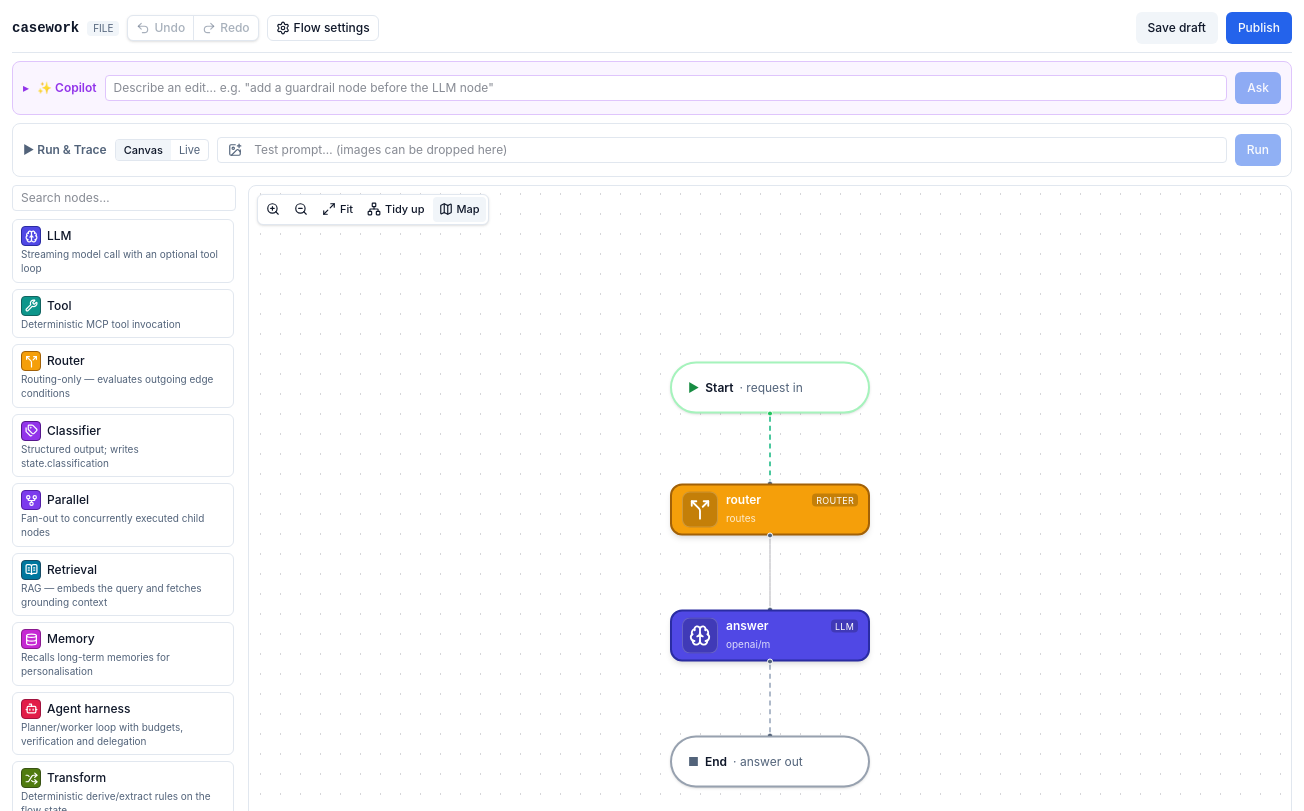
Test: StudioBuilder › rejects a rename to an existing id
Step 1. Click the text "answer" → (747, 626), box [726,618,769,634]
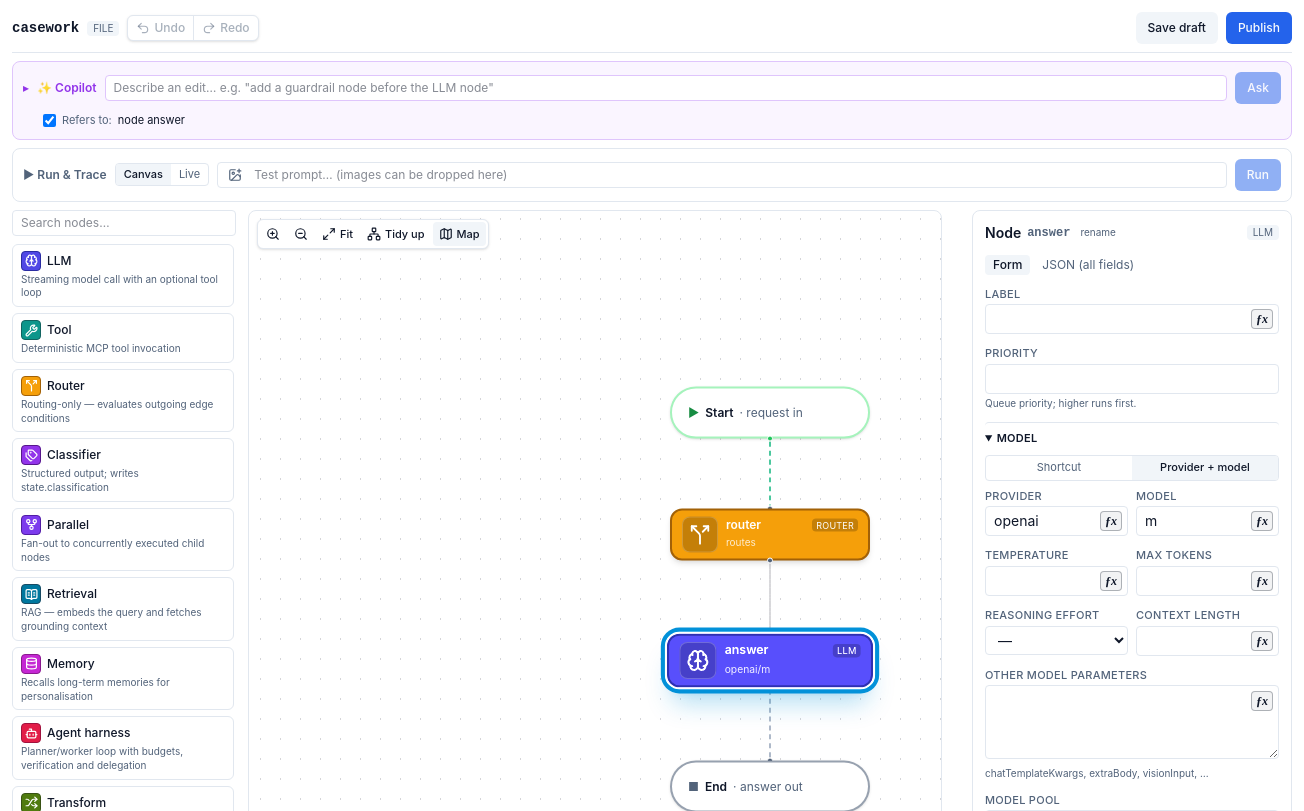
Step 2. Click the button "rename" → (1098, 233), box [1076,225,1120,240]
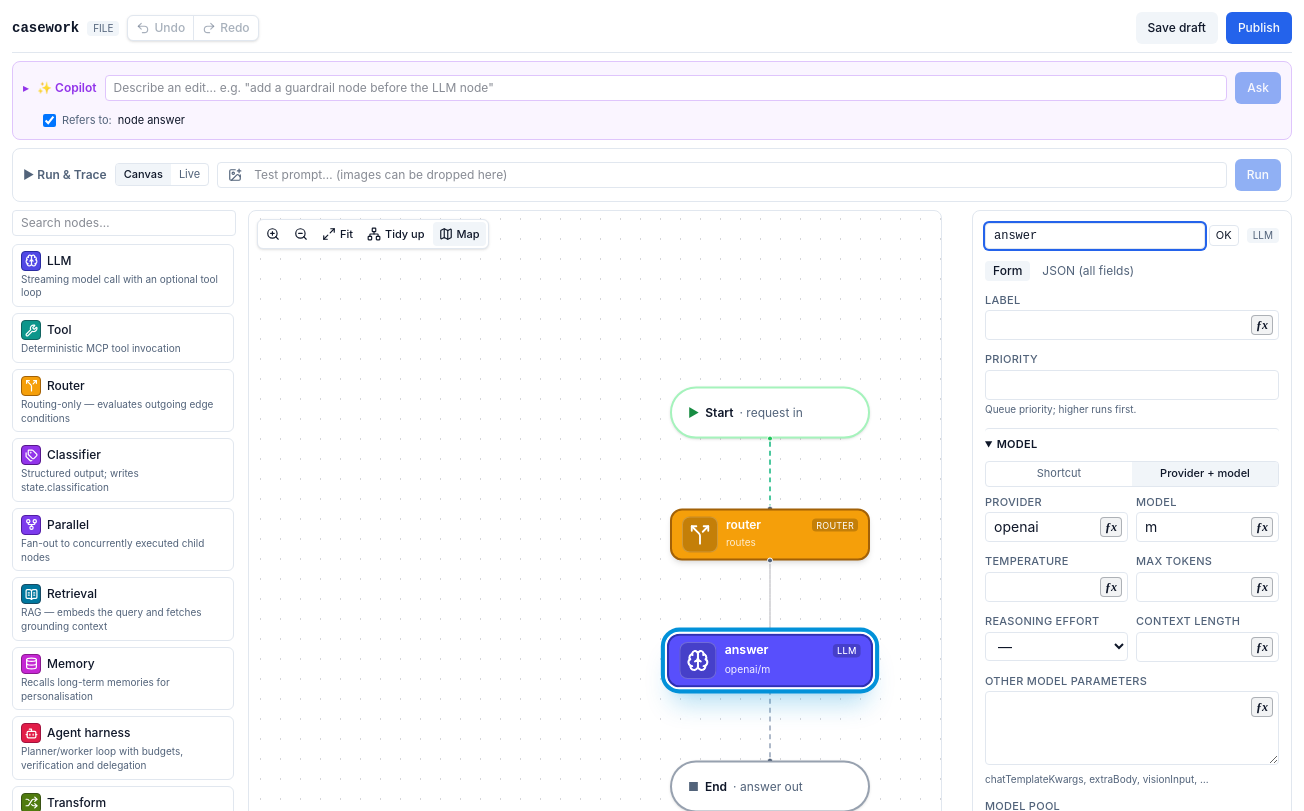
Step 3. Replace the text in the field named "Node id" with "router" → (1095, 236), box [985,222,1205,248]
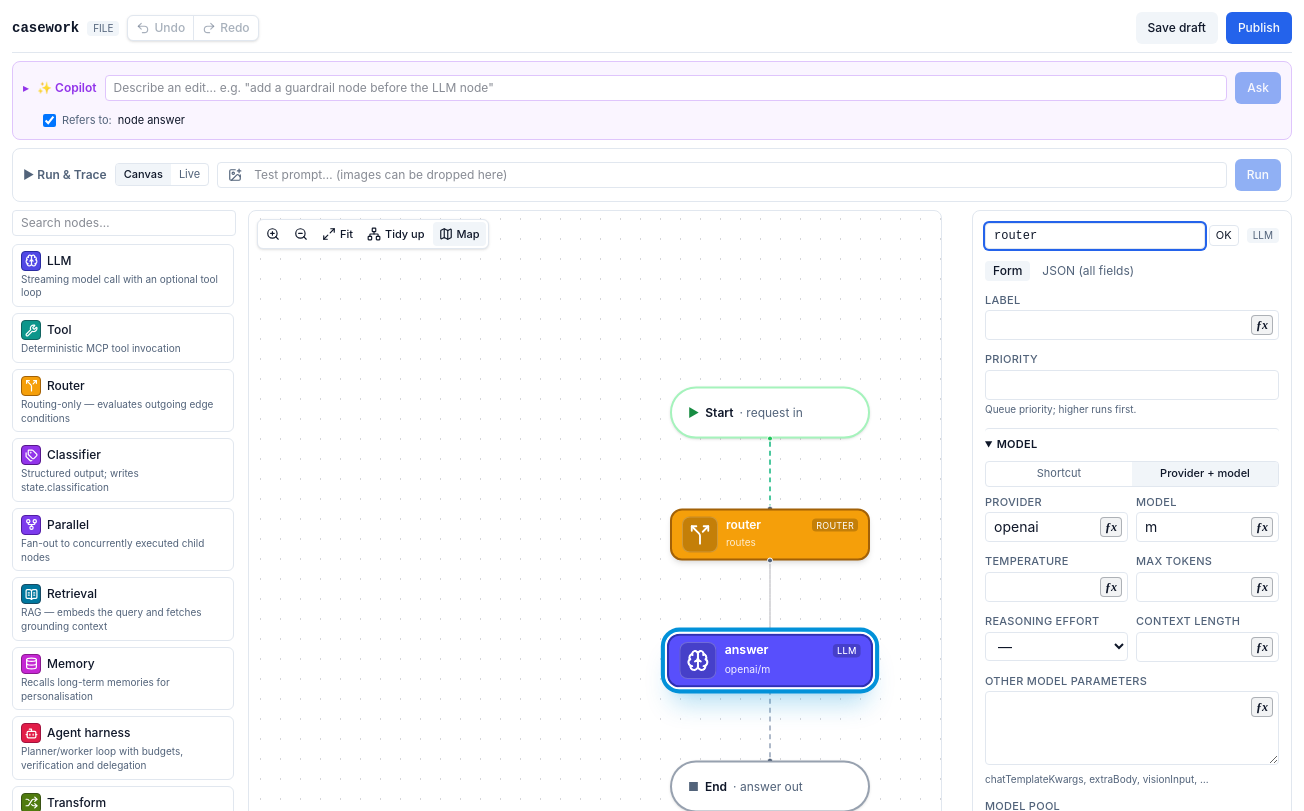
Step 4. Press Enter in the field named "Node id", box [985,222,1205,248]
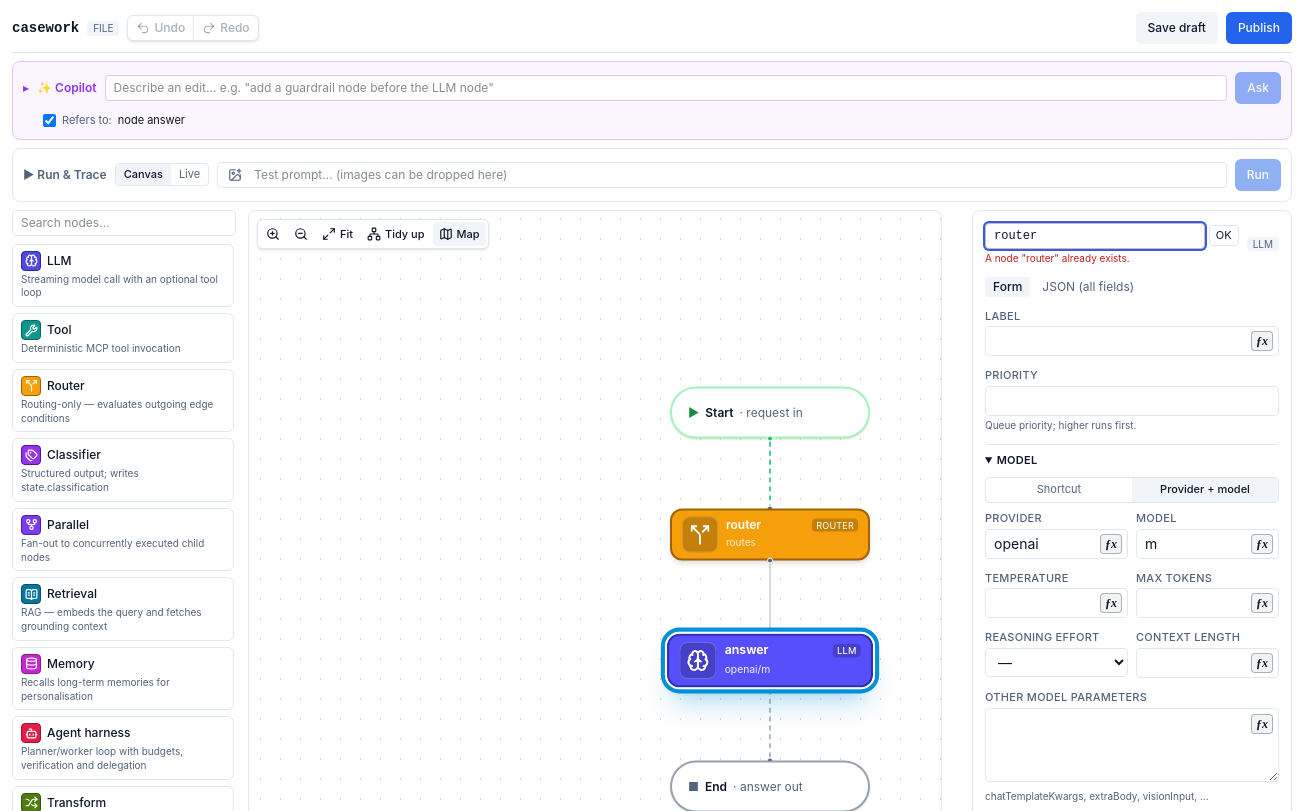
Expected: the text "A node \"router\" already exists." is shown, [985,252,1130,264]
